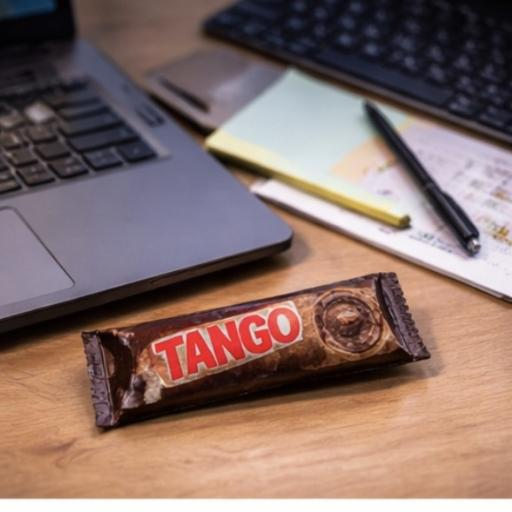tango: (55, 264, 447, 440)
